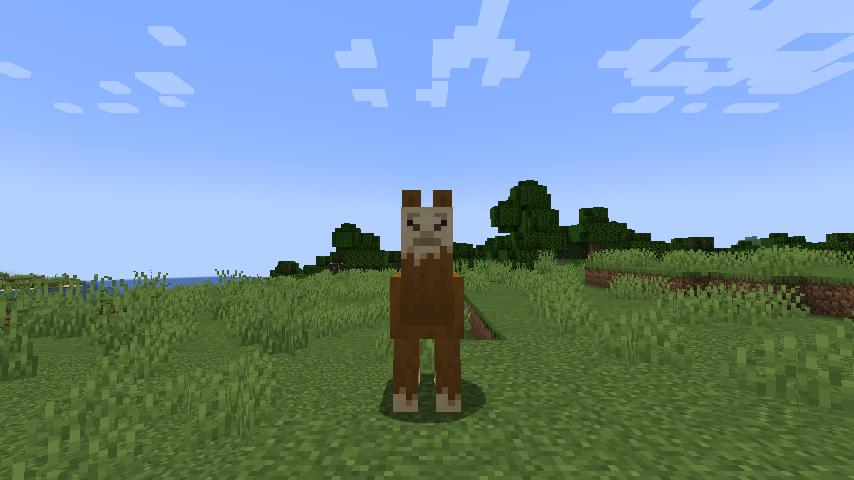llama: (386, 183, 469, 422)
